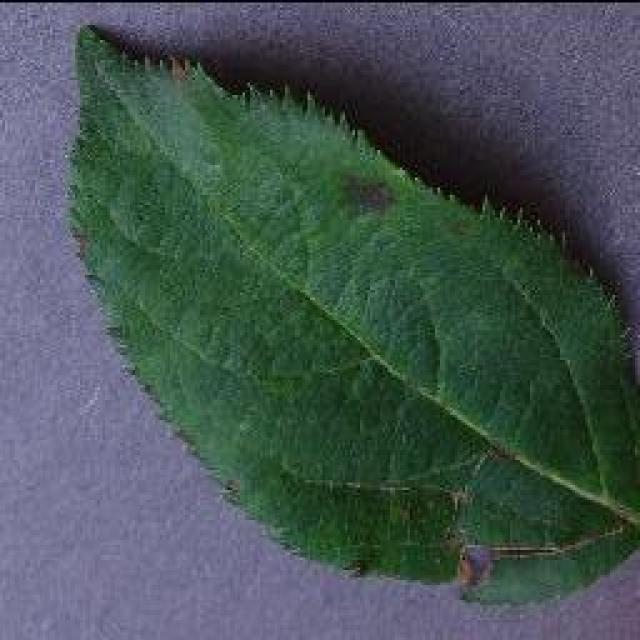apple scab disease: (62, 20, 638, 602)
